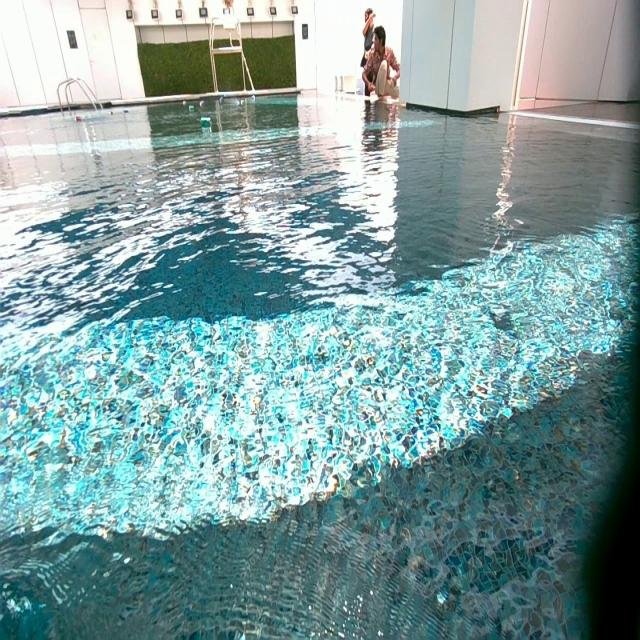Cans: (200, 117, 213, 127), (74, 113, 82, 122), (198, 101, 204, 107), (250, 96, 255, 101), (108, 111, 114, 115), (123, 109, 129, 113), (189, 106, 195, 110), (182, 101, 187, 105)
